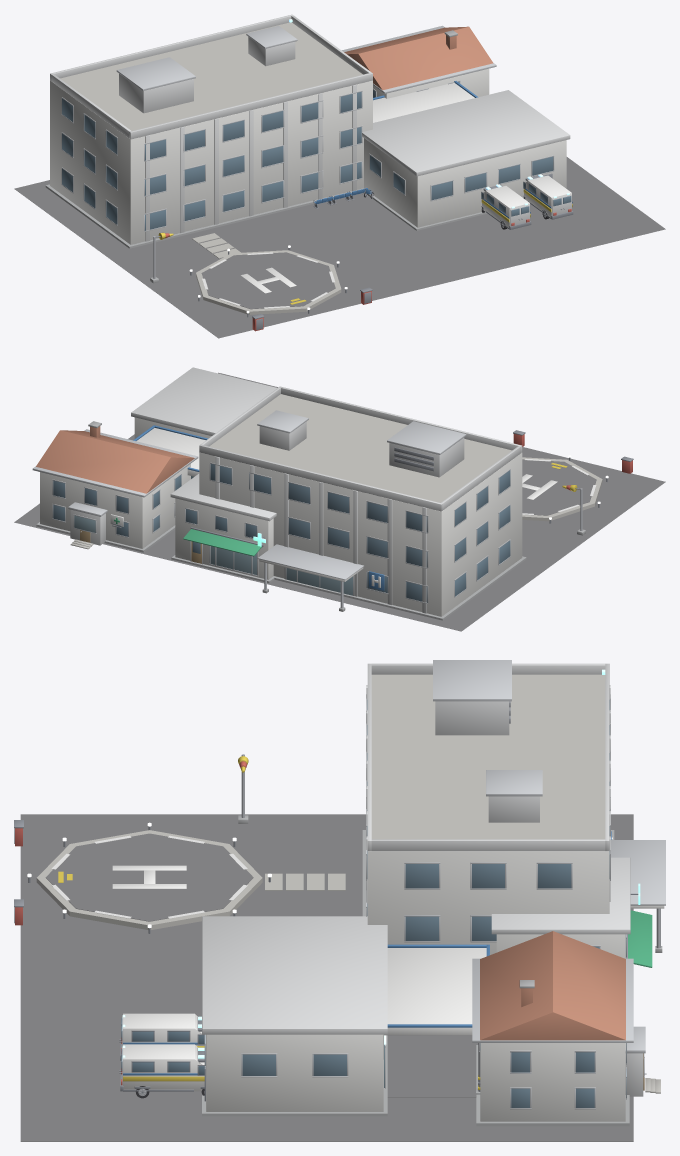
Rendered from th49_klinikgelaende.glb.
3 renders of one model, top to bottom at view 1: azimuth 30°, elevation 25°; view 2: azimuth 150°, elevation 25°; view 3: azimuth 270°, elevation 25°, orthographic. The views are drawn at different scales.
Parts seen in each view (by area): view 1: Cube, Cube.002, Cube.313, Cube.325, Cube.324, Cylinder.005, PxDach, Cube.309, Cube.326, Cube.311, Cube.314, Cube.315 (+15 smaller); view 2: Cube.002, Cube.313, Cube, PxDach, Cube.325, Cube.435, Cube.531, Cylinder.005, Cube.311, Cube.297, Cube.309, Cube.315 (+19 smaller); view 3: Cube, Cube.313, Cube.325, Cube.002, PxDach, Cube.324, Cylinder.005, Cube.435, Cube.326, Cube.339, Cube.532, Cube.315 (+23 smaller).
Boxes of the visible parts, <box> form: Cube: <box>14,157,665,338</box>; Cube.002: <box>50,80,372,244</box>; Cube.313: <box>60,22,362,130</box>; Cube.325: <box>362,90,570,176</box>; Cube.324: <box>364,138,566,227</box>; Cylinder.005: <box>201,252,335,309</box>; PxDach: <box>344,26,493,90</box>; Cube.309: <box>129,72,372,139</box>; Cube.326: <box>373,83,474,122</box>; Cube.311: <box>50,14,293,80</box>; Cube.314: <box>119,74,193,113</box>; Cube.315: <box>116,57,195,90</box>; Cube.002: <box>199,452,522,616</box>; Cube.313: <box>209,394,511,502</box>; Cube: <box>14,372,665,631</box>; PxDach: <box>36,430,194,493</box>; Cube.325: <box>131,367,277,435</box>; Cube.435: <box>40,463,190,548</box>; Cube.531: <box>175,498,273,579</box>; Cylinder.005: <box>522,459,596,515</box>; Cube.311: <box>199,444,442,511</box>; Cube.297: <box>257,544,364,580</box>; Cube.309: <box>279,386,522,452</box>; Cube.315: <box>387,421,466,454</box>; Cube: <box>20,814,633,1141</box>; Cube.313: <box>371,674,605,839</box>; Cube.325: <box>202,916,387,1034</box>; Cube.002: <box>367,851,609,954</box>; PxDach: <box>480,931,625,1040</box>; Cube.324: <box>206,1034,383,1111</box>; Cylinder.005: <box>45,833,253,921</box>; Cube.435: <box>480,1043,625,1121</box>; Cube.326: <box>384,948,486,1035</box>; Cube.339: <box>387,1035,478,1097</box>; Cube.532: <box>491,857,630,934</box>; Cube.315: <box>433,660,511,701</box>.
Bounding box in the file's own units: 48 × 13.67 × 40.41.
